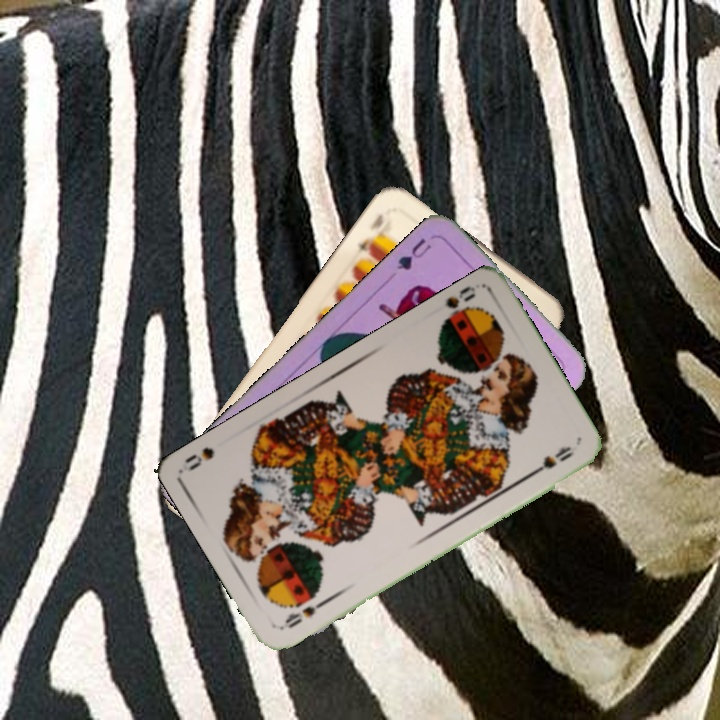E10: (353, 209, 387, 258)
GU: (393, 234, 434, 273)
SO: (436, 282, 482, 330), (277, 594, 331, 632)
